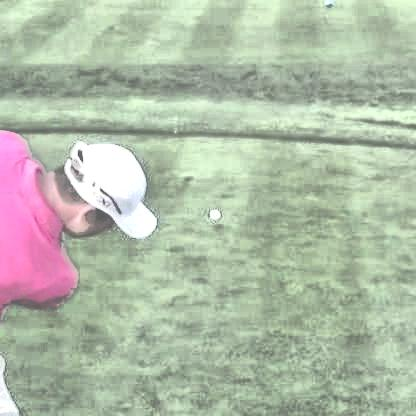golfball: (207, 207, 217, 219)
